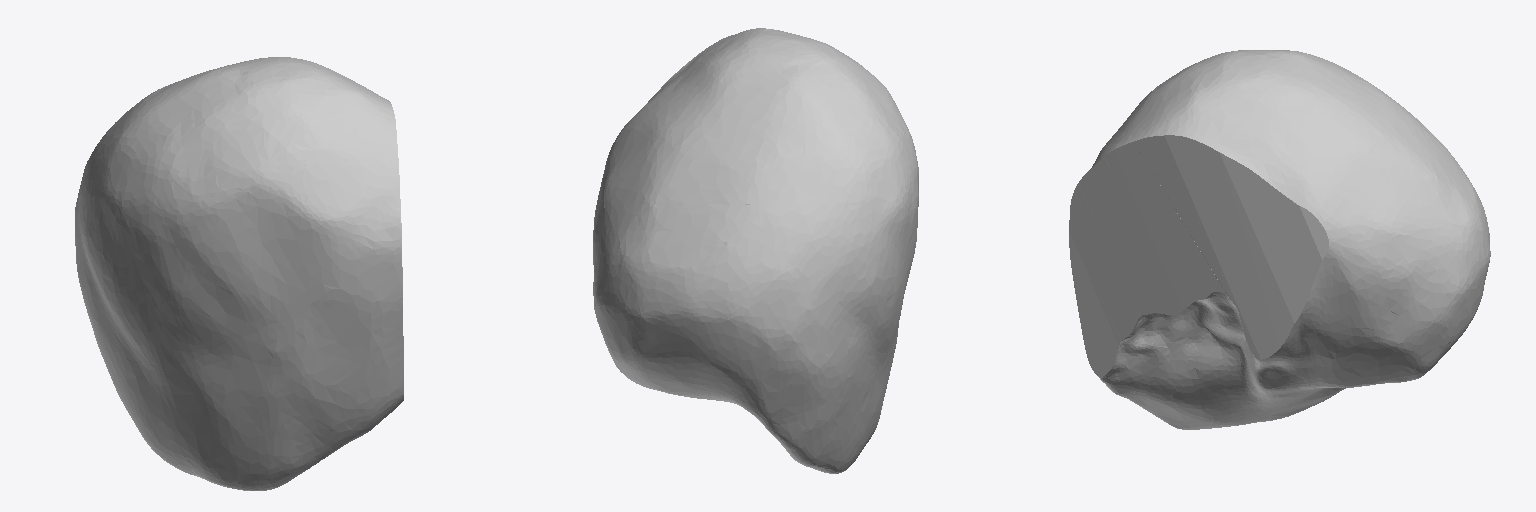
The picture shows the model from 3 angles: view 1: azimuth 30°, elevation 25°; view 2: azimuth 150°, elevation 25°; view 3: azimuth 270°, elevation 25°; orthographic projection.
Visible parts, largest first — view 1: Polygonal_Model_9_Triangles_0; view 2: Polygonal_Model_9_Triangles_0; view 3: Polygonal_Model_9_Triangles_0.
Part boxes in pixels (bbox=[...]): Polygonal_Model_9_Triangles_0: bbox=[75, 57, 403, 490]; Polygonal_Model_9_Triangles_0: bbox=[593, 28, 918, 473]; Polygonal_Model_9_Triangles_0: bbox=[1069, 50, 1490, 429].
Size of the model in its own units: 5.37 by 7.25 by 7.09.